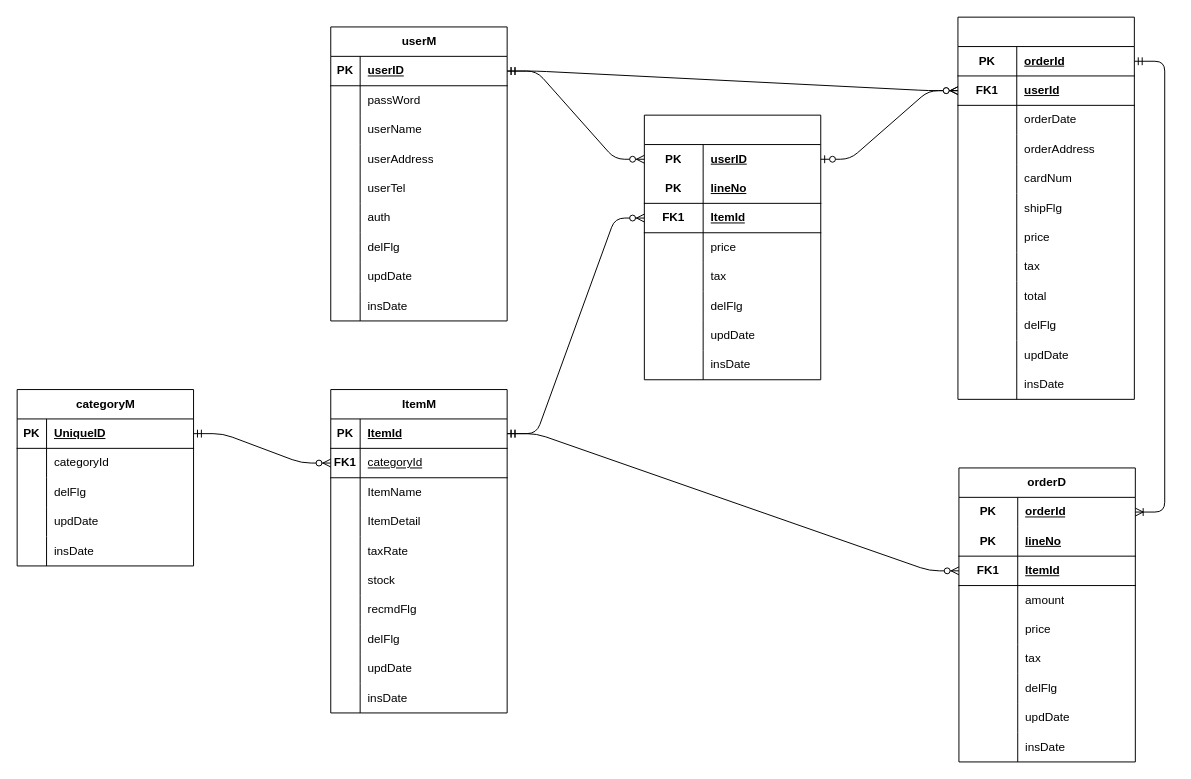
Some shapes in this 1191 by 779 pixel diagram are drawn without their labels. Here are the shapes that lost their labels. From the top down, the box of each, then its label:
(957, 16, 1134, 399): orderH
(643, 114, 821, 380): cartT
